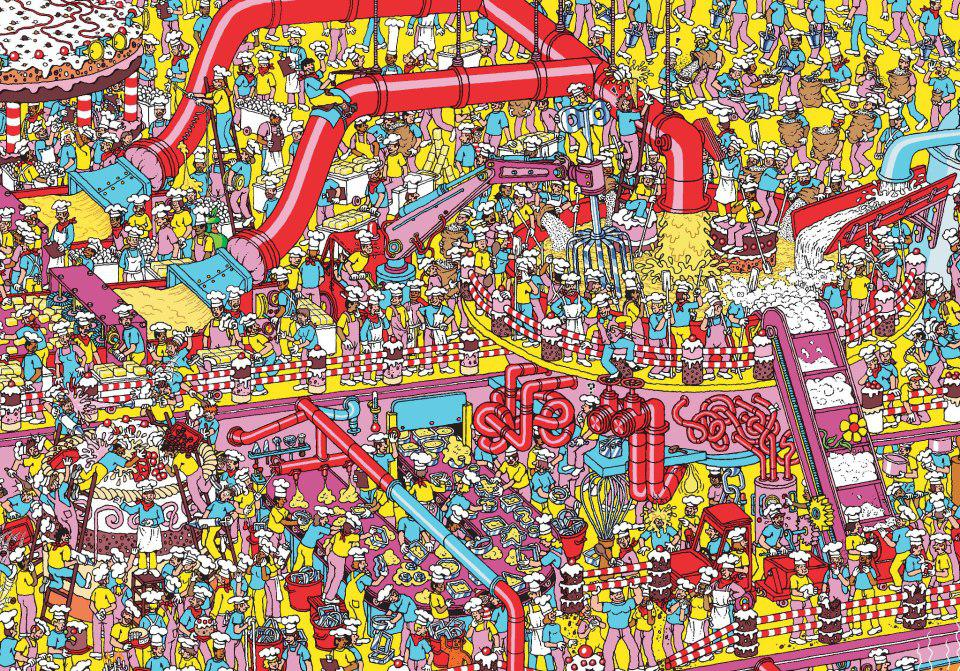waldo: (470, 125, 484, 141)
